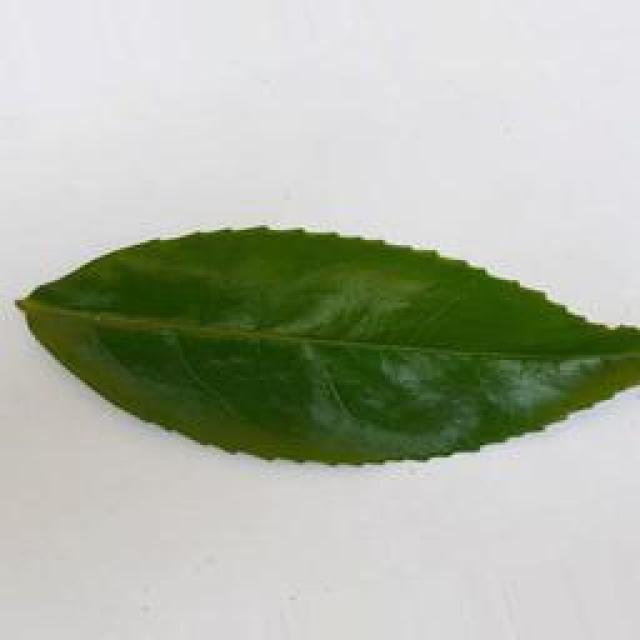Healthy: (10, 220, 640, 462)
